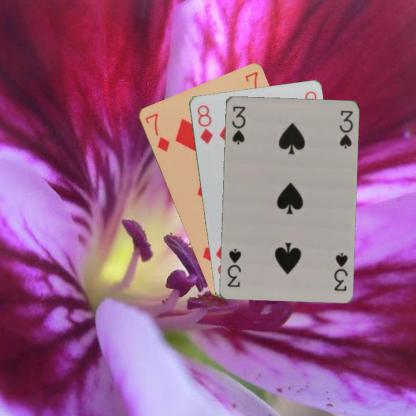3s: (229, 102, 246, 146), (331, 250, 348, 292)
7d: (142, 110, 171, 153)
8d: (194, 102, 214, 145)
